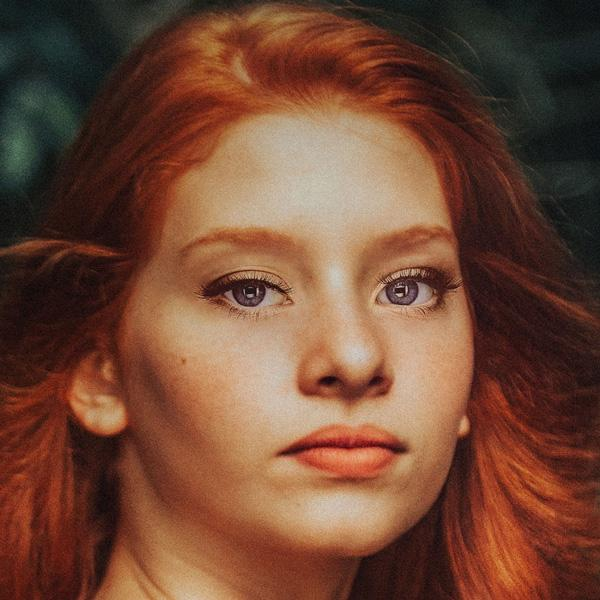Eyes: (192, 260, 302, 329), (361, 256, 455, 324)
